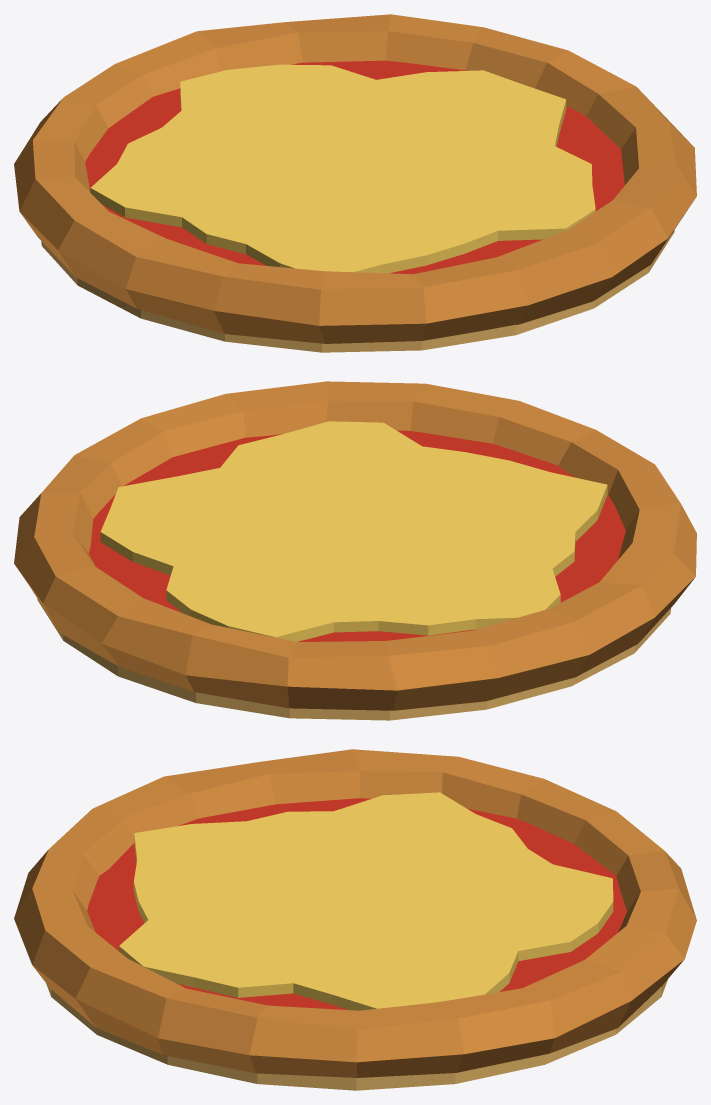
File: Pizza.fbx
The picture shows the model from 3 angles, top to bottom: view 1: azimuth 30°, elevation 25°; view 2: azimuth 150°, elevation 25°; view 3: azimuth 270°, elevation 25°; orthographic projection.
Visible parts, largest first — view 1: Crust, Melt, Sauce, Dough; view 2: Crust, Melt, Sauce, Dough; view 3: Crust, Melt, Sauce, Dough.
Part boxes in pixels (left/top/right/bottom): Crust: left=14, top=14, right=696, bottom=343; Melt: left=90, top=64, right=595, bottom=273; Sauce: left=85, top=60, right=624, bottom=274; Dough: left=41, top=230, right=674, bottom=352; Crust: left=14, top=381, right=696, bottom=710; Melt: left=100, top=421, right=607, bottom=641; Sauce: left=89, top=430, right=625, bottom=641; Dough: left=37, top=599, right=671, bottom=720; Crust: left=14, top=749, right=696, bottom=1077; Melt: left=119, top=792, right=613, bottom=1010; Sauce: left=87, top=798, right=626, bottom=1009; Dough: left=46, top=979, right=667, bottom=1090.
Bounding box in the file's own units: 2.14 × 0.2334 × 2.13.
